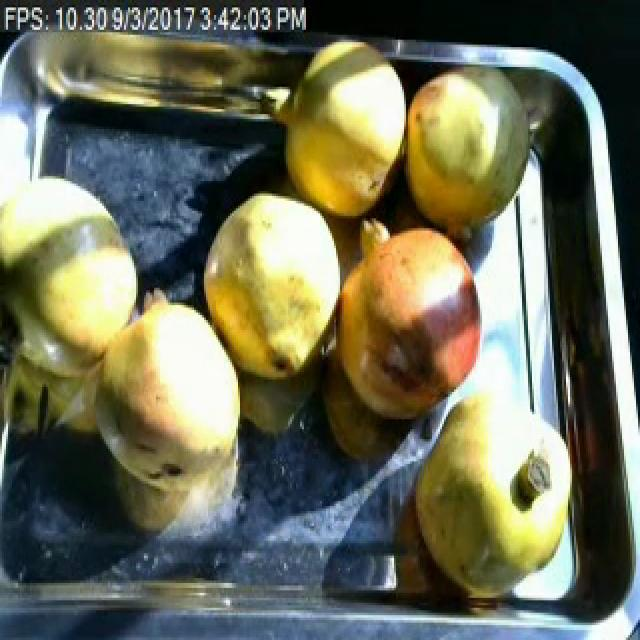fruit: (84, 273, 262, 513), (318, 208, 494, 436), (406, 374, 582, 602), (0, 161, 154, 402), (190, 181, 356, 399), (398, 59, 548, 256), (268, 35, 410, 233)
